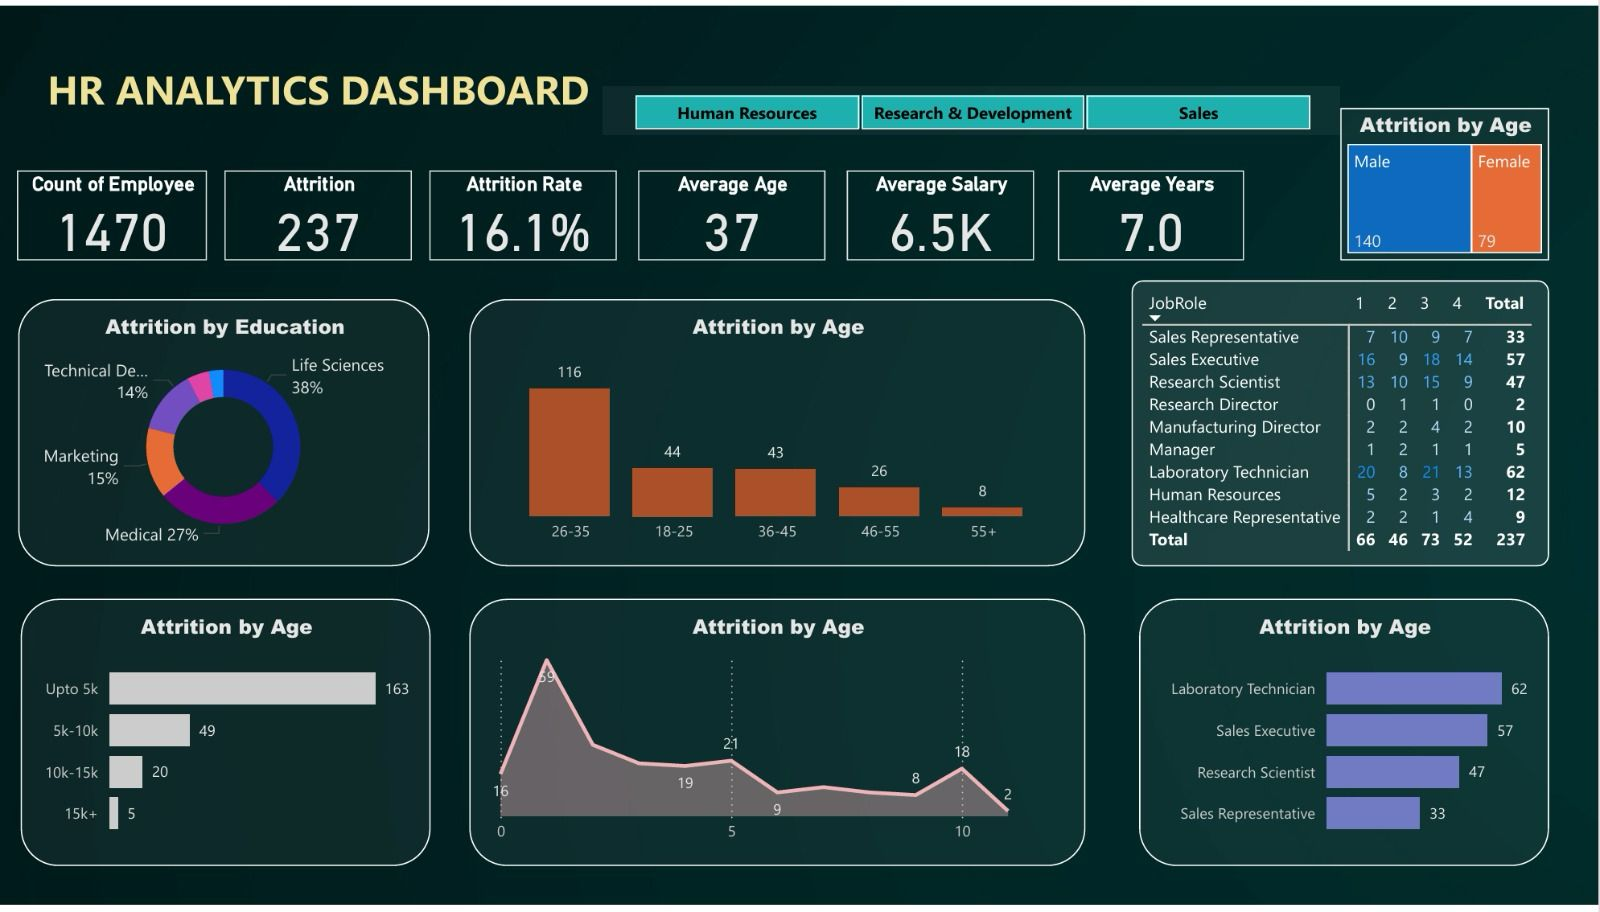

What the dashboard file says about the page in this screenshot:
{"tool":"powerbi","page":{"name":"Page 1","canvas":[1280,720],"ordinal":0},"visuals":[{"type":"card","title":"Count of Employee","fields":{"Values":["CountNonNull(HR_Analytics (3).EmpID)"]},"box":[13.9,131.6,151.8,72.8],"z":0},{"type":"card","title":"Attrition","fields":{"Values":["Sum(HR_Analytics (3).AttritionCount)"]},"box":[179.6,131.6,150.2,72.8],"z":1000},{"type":"card","title":"Average Age ","fields":{"Values":["Avg(HR_Analytics (3).Age)"]},"box":[511,131.6,150.2,72.8],"z":2000},{"type":"card","title":"Attrition Rate","fields":{"Values":["HR_Analytics (3).Attrition_Rate"]},"box":[343.8,131.6,150.2,72.8],"z":3000},{"type":"card","title":"Average Salary ","fields":{"Values":["Avg(HR_Analytics (3).MonthlyIncome)"]},"box":[678.3,131.6,150.2,72.8],"z":4000},{"type":"card","title":"Average Years","fields":{"Values":["Avg(HR_Analytics (3).YearsAtCompany)"]},"box":[847.1,131.6,148.7,72.8],"z":5000},{"type":"donutChart","title":"Attrition by Education","fields":{"Category":["HR_Analytics (3).EducationField"],"Y":["Sum(HR_Analytics (3).AttritionCount)"]},"box":[15.5,235.4,328.3,213.7],"z":6000},{"type":"columnChart","title":"Attrition by Age","fields":{"Y":["Sum(HR_Analytics (3).AttritionCount)"],"Category":["HR_Analytics (3).AgeGroup"]},"box":[376.3,235.4,492.4,213.7],"z":7000},{"type":"pivotTable","fields":{"Rows":["HR_Analytics (3).JobRole"],"Columns":["HR_Analytics (3).JobSatisfaction"],"Values":["Sum(HR_Analytics (3).AttritionCount)"]},"box":[905.9,219.9,334.5,229.2],"z":8000},{"type":"clusteredBarChart","title":"Attrition by Age","fields":{"Category":["HR_Analytics (3).SalarySlab"],"Y":["Sum(HR_Analytics (3).AttritionCount)"]},"box":[17,475.4,328.3,213.7],"z":9000},{"type":"clusteredBarChart","title":"Attrition by Age","fields":{"Category":["HR_Analytics (3).JobRole"],"Y":["Sum(HR_Analytics (3).AttritionCount)"]},"box":[912.1,475.4,328.3,213.7],"z":10000},{"type":"areaChart","title":"Attrition by Age","fields":{"Category":["HR_Analytics (3).YearsAtCompany"],"Y":["Sum(HR_Analytics (3).AttritionCount)"]},"box":[376.3,475.4,492.4,213.7],"z":11000},{"type":"treemap","title":"Attrition by Age","fields":{"Group":["HR_Analytics (3).Gender"],"Values":["Sum(HR_Analytics (3).AttritionCount)"]},"box":[1073.2,82.1,167.2,122.3],"z":12000},{"type":"slicer","fields":{"Values":["HR_Analytics (3).Department"]},"box":[483.2,65,590,38.7],"z":13000},{"type":"textbox","box":[27.9,38.7,455.3,54.2],"z":15000}]}

Visuals, with their boxes in screenshot pixels (x1, y1, x2, y2), scaled from the page's 1280x720 canvas onto the 1600x912 screenshot:
"Count of Employee" card: left=17, top=167, right=207, bottom=259
"Attrition" card: left=224, top=167, right=412, bottom=259
"Average Age " card: left=639, top=167, right=826, bottom=259
"Attrition Rate" card: left=430, top=167, right=618, bottom=259
"Average Salary " card: left=848, top=167, right=1036, bottom=259
"Average Years" card: left=1059, top=167, right=1245, bottom=259
"Attrition by Education" donutChart: left=19, top=298, right=430, bottom=569
"Attrition by Age" columnChart: left=470, top=298, right=1086, bottom=569
pivotTable - HR_Analytics (3).JobRole x HR_Analytics (3).JobSatisfaction: left=1132, top=279, right=1550, bottom=569
"Attrition by Age" clusteredBarChart: left=21, top=602, right=432, bottom=873
"Attrition by Age" clusteredBarChart: left=1140, top=602, right=1550, bottom=873
"Attrition by Age" areaChart: left=470, top=602, right=1086, bottom=873
"Attrition by Age" treemap: left=1342, top=104, right=1550, bottom=259
slicer - HR_Analytics (3).Department: left=604, top=82, right=1342, bottom=131
textbox: left=35, top=49, right=604, bottom=118
